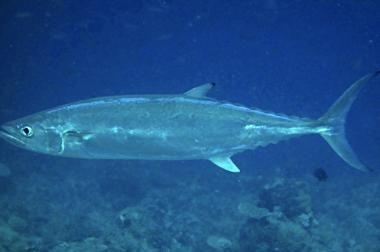Scombridae -Tunas-: (0, 67, 380, 196)
